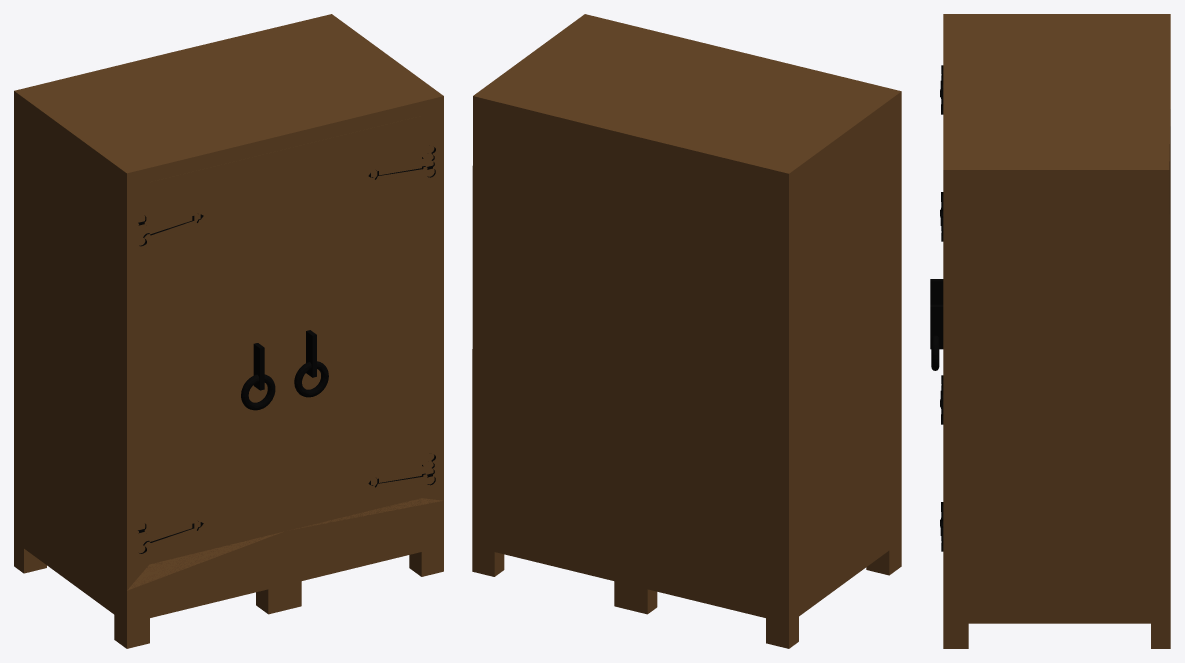
File: armário2.fbx
The picture shows the model from 3 angles, left to right: view 1: azimuth 30°, elevation 25°; view 2: azimuth 150°, elevation 25°; view 3: azimuth 270°, elevation 25°; orthographic projection.
Visible parts, largest first — view 1: Torus.005; view 2: Torus.005; view 3: Torus.005.
Boxes of the visible parts, x1=… form: Torus.005: x1=14, y1=14, x2=443, y2=648; Torus.005: x1=472, y1=14, x2=901, y2=648; Torus.005: x1=930, y1=14, x2=1170, y2=648.
Size of the model in its own units: 136 by 194 by 88.47.
